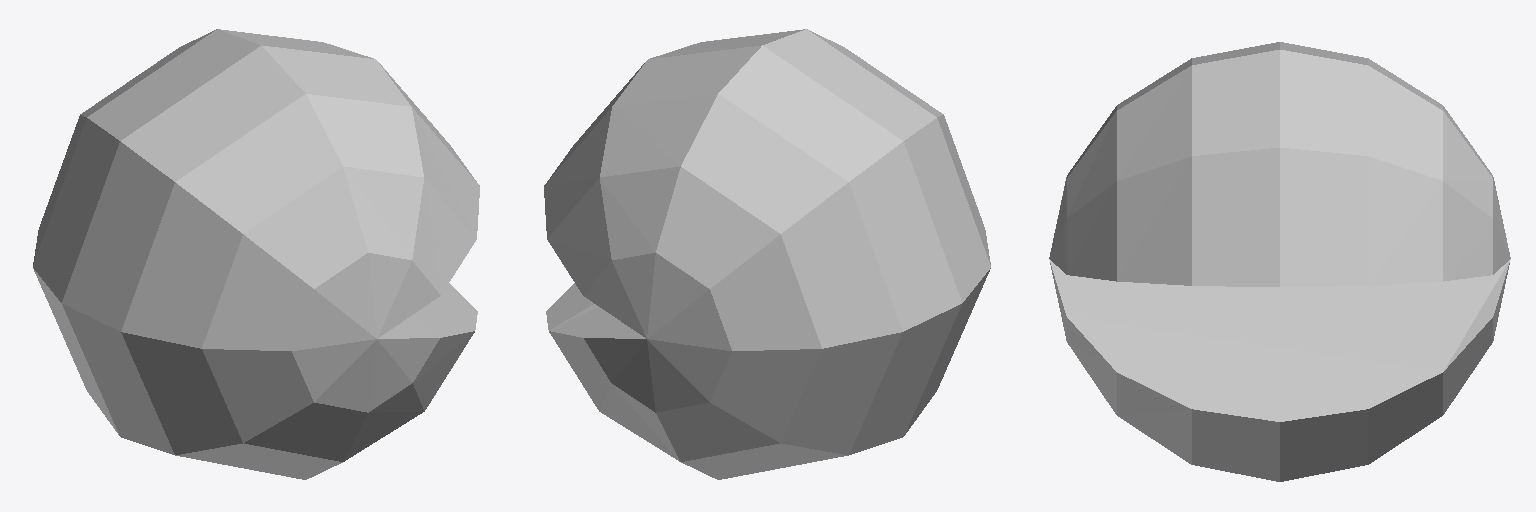
File: pacman2.obj
3 views of the same model, side by side, from view 1: azimuth 30°, elevation 25°; view 2: azimuth 150°, elevation 25°; view 3: azimuth 270°, elevation 25° (orthographic).
Parts seen in each view (by area): view 1: Sphere; view 2: Sphere; view 3: Sphere.
Boxes of the visible parts, box(x1,y1,x2,y2) form: Sphere: box(33, 29, 479, 479); Sphere: box(544, 29, 990, 479); Sphere: box(1049, 42, 1510, 481).
Bounding box in the file's own units: 1.94 × 2 × 2.